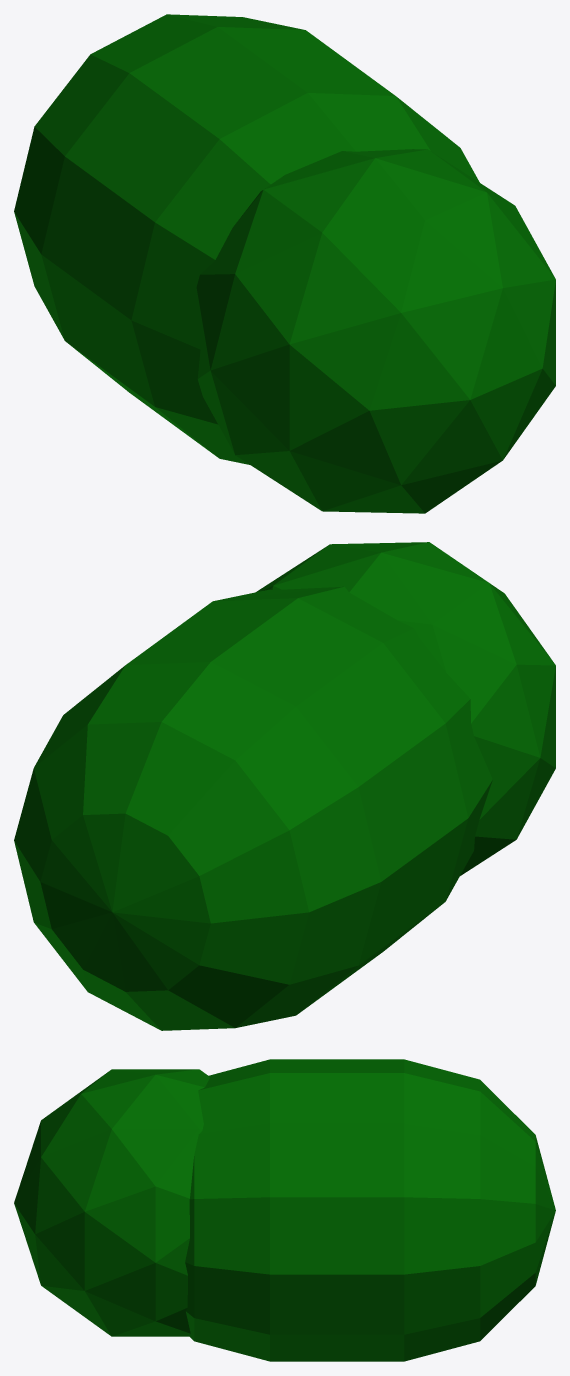
Rendered from _arm-forearm-1.glb.
3 views of the same model, one above another, from view 1: azimuth 30°, elevation 25°; view 2: azimuth 150°, elevation 25°; view 3: azimuth 270°, elevation 25° (orthographic). The views are drawn at different scales.
Size of the model in its own units: 0.098 by 0.098 by 0.1751.
